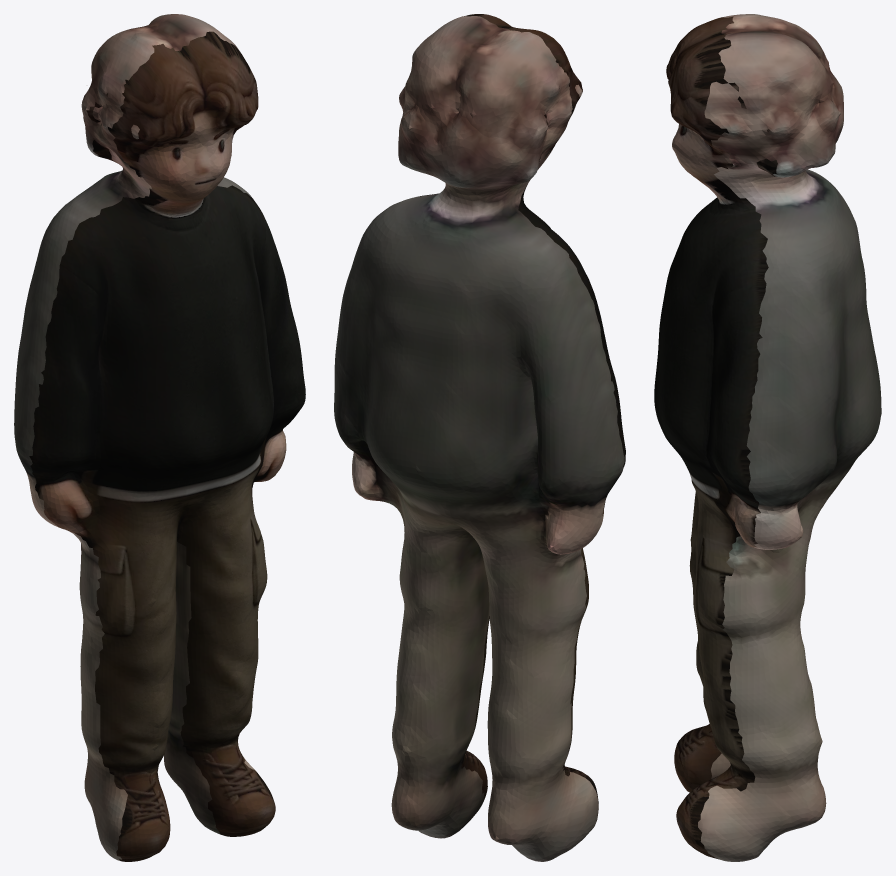
The model's file is approver.glb.
3 views of the same model, side by side, from view 1: azimuth 30°, elevation 25°; view 2: azimuth 150°, elevation 25°; view 3: azimuth 270°, elevation 25° (orthographic).
Visible parts, largest first — view 1: body_t, legL_t, legR_t, body_c, legL_c, legR_c; view 2: body_c, legL_c, legR_c, body_t, legR_t, legL_t; view 3: body_c, body_t, legR_c, legR_t, legL_t.
Part boxes in pixels (x1,y1,x2,y2): body_t: [29, 31, 305, 542]; legL_t: [75, 520, 181, 861]; legR_t: [177, 501, 275, 836]; body_c: [14, 14, 258, 533]; legL_c: [73, 533, 127, 860]; legR_c: [164, 542, 261, 834]; body_c: [334, 16, 624, 554]; legL_c: [479, 545, 598, 861]; legR_c: [391, 511, 489, 838]; body_t: [420, 14, 625, 520]; legR_t: [461, 616, 489, 801]; legL_t: [562, 548, 598, 821]; body_c: [704, 14, 881, 549]; body_t: [654, 16, 777, 547]; legR_c: [698, 522, 826, 861]; legR_t: [676, 525, 755, 859]; legL_t: [674, 491, 721, 792].
Size of the model in its own units: 0.3344 by 0.9489 by 0.2422.
Materials: 1 (1 with a texture image).
